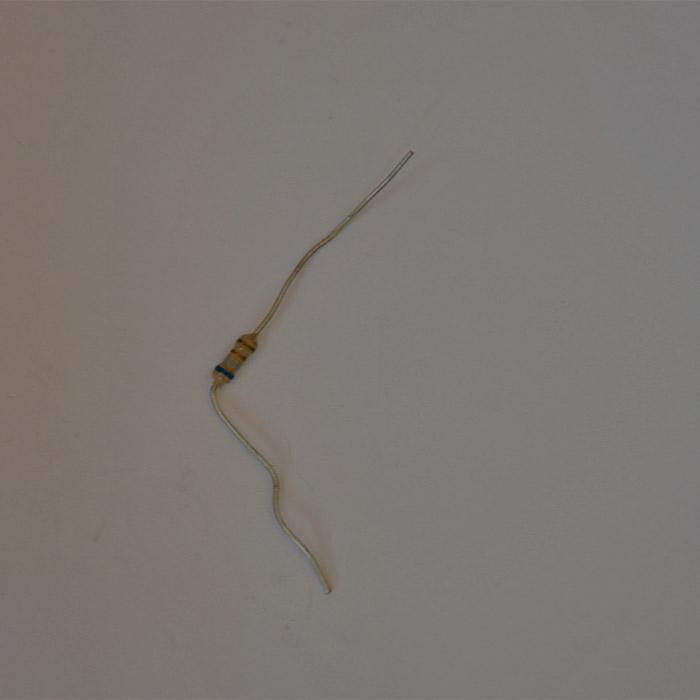resistor: (213, 332, 260, 388)
